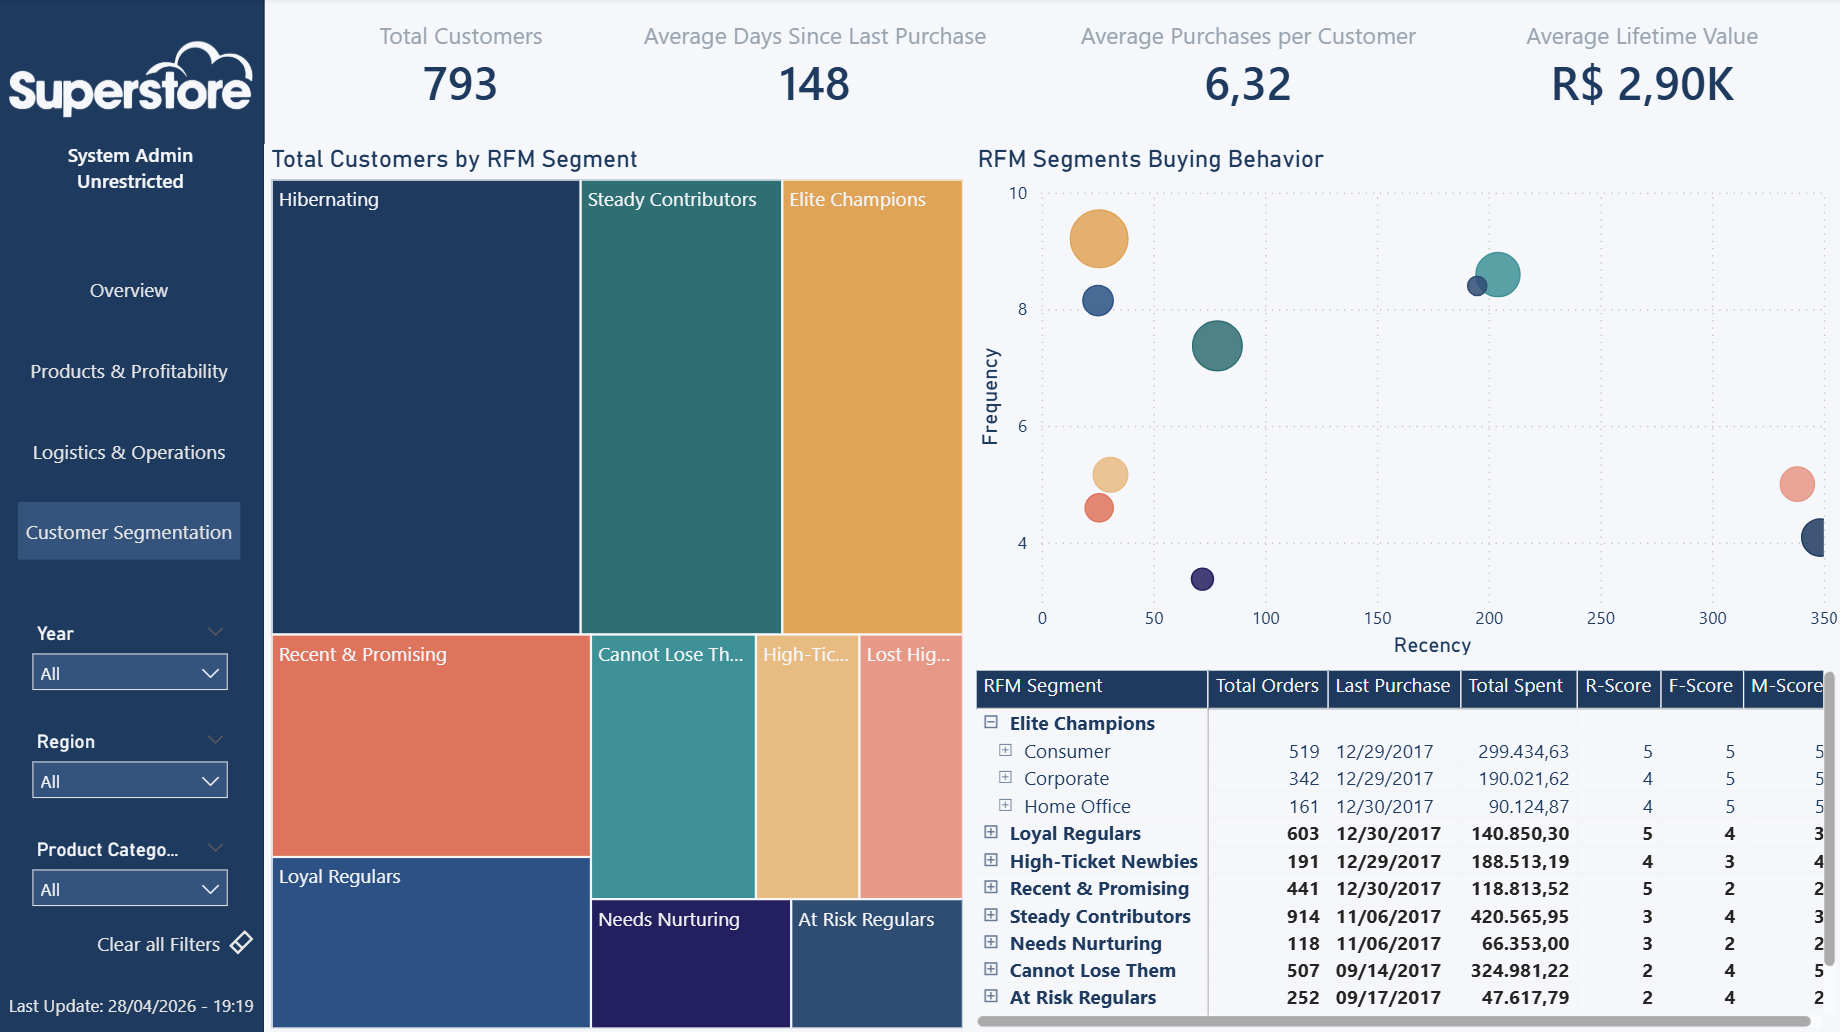

What the dashboard file says about the page in this screenshot:
{"tool":"powerbi","page":{"name":"Customer Segmentation","canvas":[1280,720],"ordinal":3},"visuals":[{"type":"cardVisual","fields":{"Data":["_Measures.Total Customers"]},"box":[185.4,0,273.5,102],"z":0},{"type":"cardVisual","fields":{"Data":["_Measures.Average Lifetime Value"]},"box":[1004.6,0,272.3,102],"z":1000},{"type":"shape","box":[0,0,185.4,719.6],"z":2000},{"type":"cardVisual","fields":{"Data":["_Measures.Average Purchases per Customer"]},"box":[731.2,0,273.5,102],"z":3000},{"type":"scatterChart","title":"RFM Segments Buying Behavior","fields":{"X":["Avg(dim_customers.Recency)"],"Y":["Avg(dim_customers.Frequency)"],"Size":["Sum(dim_customers.Monetary)"],"Category":["dim_customers.RFM Segment"]},"box":[674.4,102,606,359.2],"z":4000},{"type":"pivotTable","fields":{"Rows":["dim_customers.RFM Segment","dim_customers.Segment","dim_customers.Customer Name"],"Values":["Sum(dim_customers.Frequency)","Max(dim_customers.Last Purchase Date)","Sum(dim_customers.Monetary)","Avg(dim_customers.R-Score)","Avg(dim_customers.F-Score)","Avg(dim_customers.M-Score)"]},"box":[673.6,461.5,606,257.8],"z":5000},{"type":"cardVisual","fields":{"Data":["_Measures.Average Days Since Last Purchase"]},"box":[429.9,0,273.5,102],"z":6000},{"type":"treemap","fields":{"Group":["dim_customers.RFM Segment","dim_customers.Segment"],"Values":["_Measures.Total Customers"]},"box":[185.4,102,489,617.6],"z":7000},{"type":"slicer","fields":{"Values":["dim_geo_ship.Region"]},"box":[14.6,503.3,155.3,60],"z":8000},{"type":"slicer","fields":{"Values":["dim_shipping_dates.Year"]},"box":[14.6,428.3,155.3,60],"z":9000},{"type":"slicer","fields":{"Values":["dim_products.Category"]},"box":[14.6,578.3,155.3,60],"z":10000},{"type":"image","box":[8.3,11.4,169.4,90.4],"z":11000},{"type":"cardVisual","fields":{"Data":["_Measures.Active User Territory"]},"box":[0,88.4,185,56.1],"z":12000},{"type":"actionButton","box":[65.5,641.4,119.5,28.1],"z":13000},{"type":"pageNavigator","box":[14.6,181.9,154.9,208.9],"z":14000},{"type":"cardVisual","fields":{"Data":["_Measures.Data Vintage"]},"box":[0,675.3,186.1,44.7],"z":15000}]}

Visuals, with their boxes on the page's 1280x720 design canvas (x1, y1, x2, y2). These are canvas units, not pixel positions in the 1840x1032 screenshot, which may show the page scaled, cropped or inside an application window:
cardVisual - _Measures.Total Customers: pyautogui.locateOnScreen(185, 0, 459, 102)
cardVisual - _Measures.Average Lifetime Value: pyautogui.locateOnScreen(1005, 0, 1277, 102)
shape: pyautogui.locateOnScreen(0, 0, 185, 720)
cardVisual - _Measures.Average Purchases per Customer: pyautogui.locateOnScreen(731, 0, 1005, 102)
"RFM Segments Buying Behavior" scatterChart: pyautogui.locateOnScreen(674, 102, 1280, 461)
pivotTable - dim_customers.RFM Segment x dim_customers.Segment: pyautogui.locateOnScreen(674, 462, 1280, 719)
cardVisual - _Measures.Average Days Since Last Purchase: pyautogui.locateOnScreen(430, 0, 703, 102)
treemap - dim_customers.RFM Segment x dim_customers.Segment: pyautogui.locateOnScreen(185, 102, 674, 720)
slicer - dim_geo_ship.Region: pyautogui.locateOnScreen(15, 503, 170, 563)
slicer - dim_shipping_dates.Year: pyautogui.locateOnScreen(15, 428, 170, 488)
slicer - dim_products.Category: pyautogui.locateOnScreen(15, 578, 170, 638)
image: pyautogui.locateOnScreen(8, 11, 178, 102)
cardVisual - _Measures.Active User Territory: pyautogui.locateOnScreen(0, 88, 185, 144)
actionButton: pyautogui.locateOnScreen(66, 641, 185, 670)
pageNavigator: pyautogui.locateOnScreen(15, 182, 170, 391)
cardVisual - _Measures.Data Vintage: pyautogui.locateOnScreen(0, 675, 186, 720)
